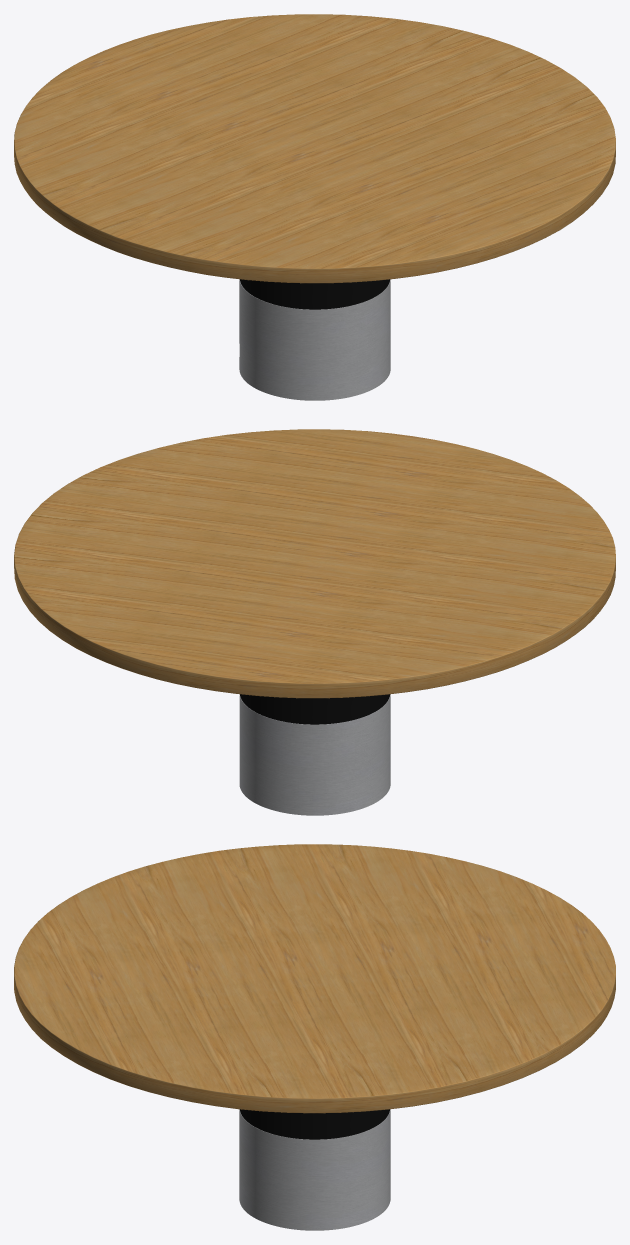
File: stul_04.gltf
3 renders of one model, top to bottom at view 1: azimuth 30°, elevation 25°; view 2: azimuth 150°, elevation 25°; view 3: azimuth 270°, elevation 25°, orthographic.
Parts seen in each view (by area): view 1: object_17.006, object_18.004, object_19.002; view 2: object_17.006, object_18.004, object_19.002; view 3: object_17.006, object_18.004, object_19.002.
Boxes of the visible parts, x1,y1,x2,y2 form: object_17.006: (14,14,615,283); object_18.004: (239,279,390,400); object_19.002: (240,279,390,309); object_17.006: (14,429,615,698); object_18.004: (239,694,390,815); object_19.002: (240,694,390,724); object_17.006: (14,844,615,1113); object_18.004: (239,1109,390,1230); object_19.002: (240,1109,389,1139).
Bounding box in the file's own units: 1.8 × 0.75 × 1.8.
4 materials, 3 textured.
